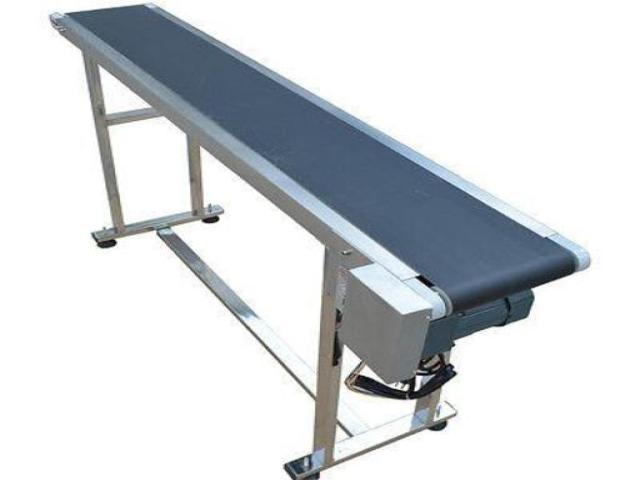conveyor: (44, 0, 594, 479)
